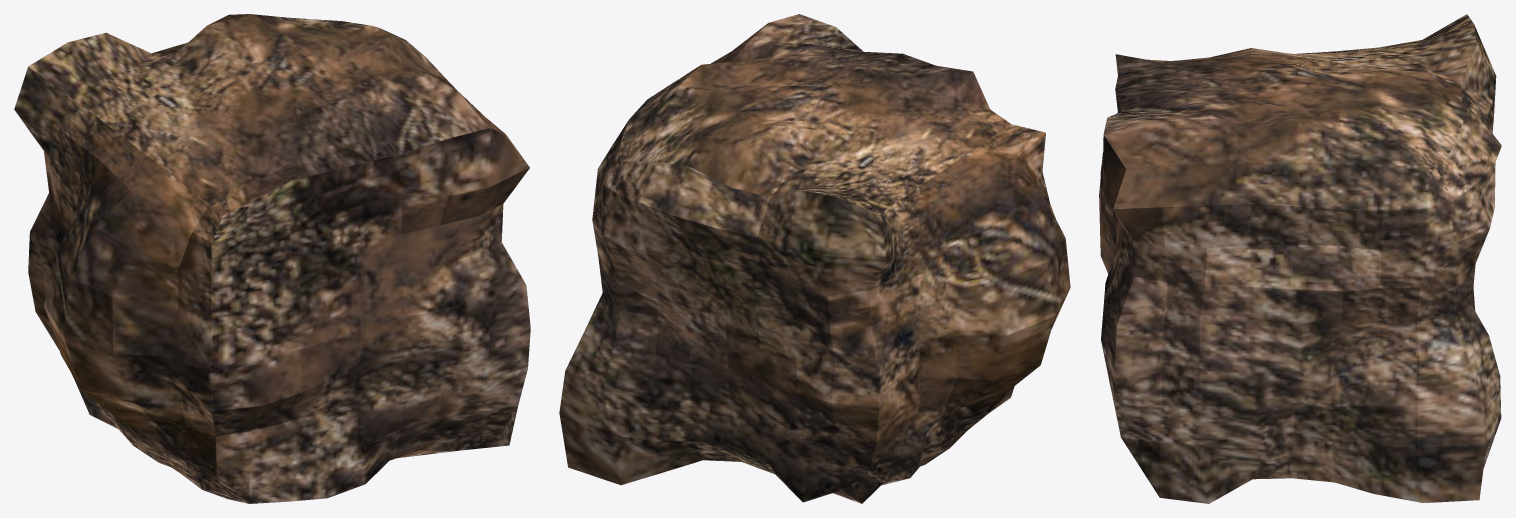
File: compost.fbx
The picture shows the model from 3 angles, left to right: view 1: azimuth 30°, elevation 25°; view 2: azimuth 150°, elevation 25°; view 3: azimuth 270°, elevation 25°; orthographic projection. The views are drawn at different scales.
Visible parts, largest first — view 1: Cube; view 2: Cube; view 3: Cube.
Boxes of the visible parts, <box> form: Cube: <box>14,14,530,503</box>; Cube: <box>559,14,1070,503</box>; Cube: <box>1099,14,1501,503</box>.
Bounding box in the file's own units: 273 × 239 × 236.
1 material, 1 textured.
